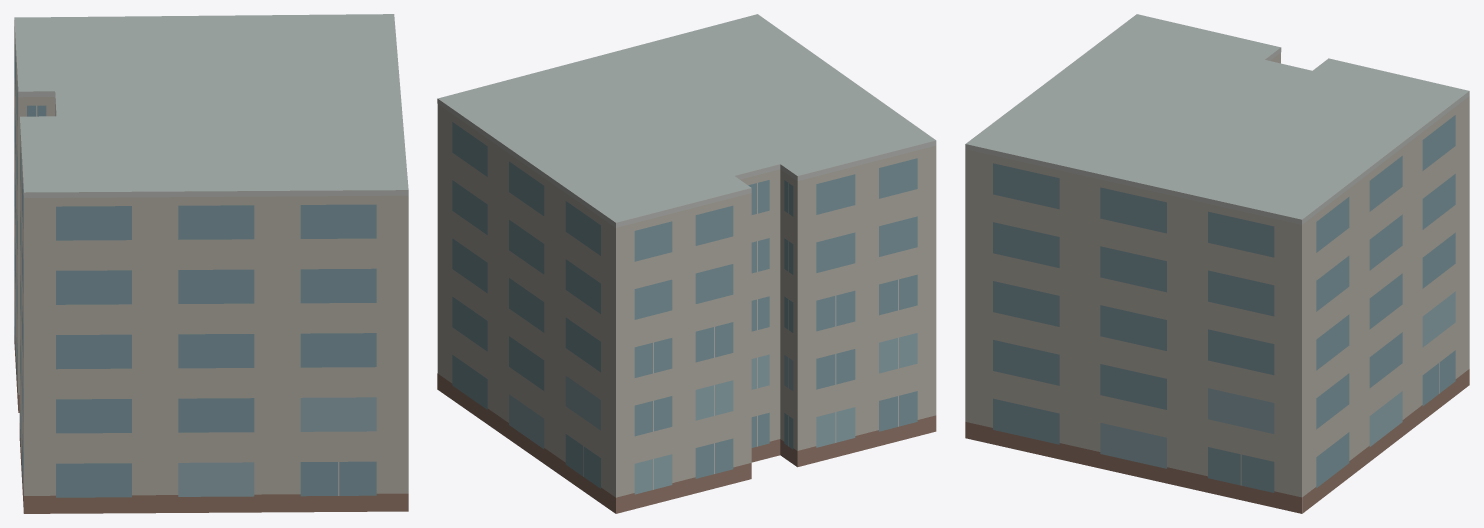
Rendered from survey-upis-32695729.glb.
3 views of the same model, side by side, from view 1: azimuth 30°, elevation 25°; view 2: azimuth 150°, elevation 25°; view 3: azimuth 270°, elevation 25° (orthographic). The views are drawn at different scales.
Visible parts, largest first — view 1: survey-upis-32695729.tmp; view 2: survey-upis-32695729.tmp; view 3: survey-upis-32695729.tmp.
Part boxes in pixels (bbox=[...]): survey-upis-32695729.tmp: bbox=[14, 14, 408, 513]; survey-upis-32695729.tmp: bbox=[437, 14, 936, 513]; survey-upis-32695729.tmp: bbox=[965, 14, 1469, 513].
Size of the model in its own units: 21 by 14 by 21.75.
